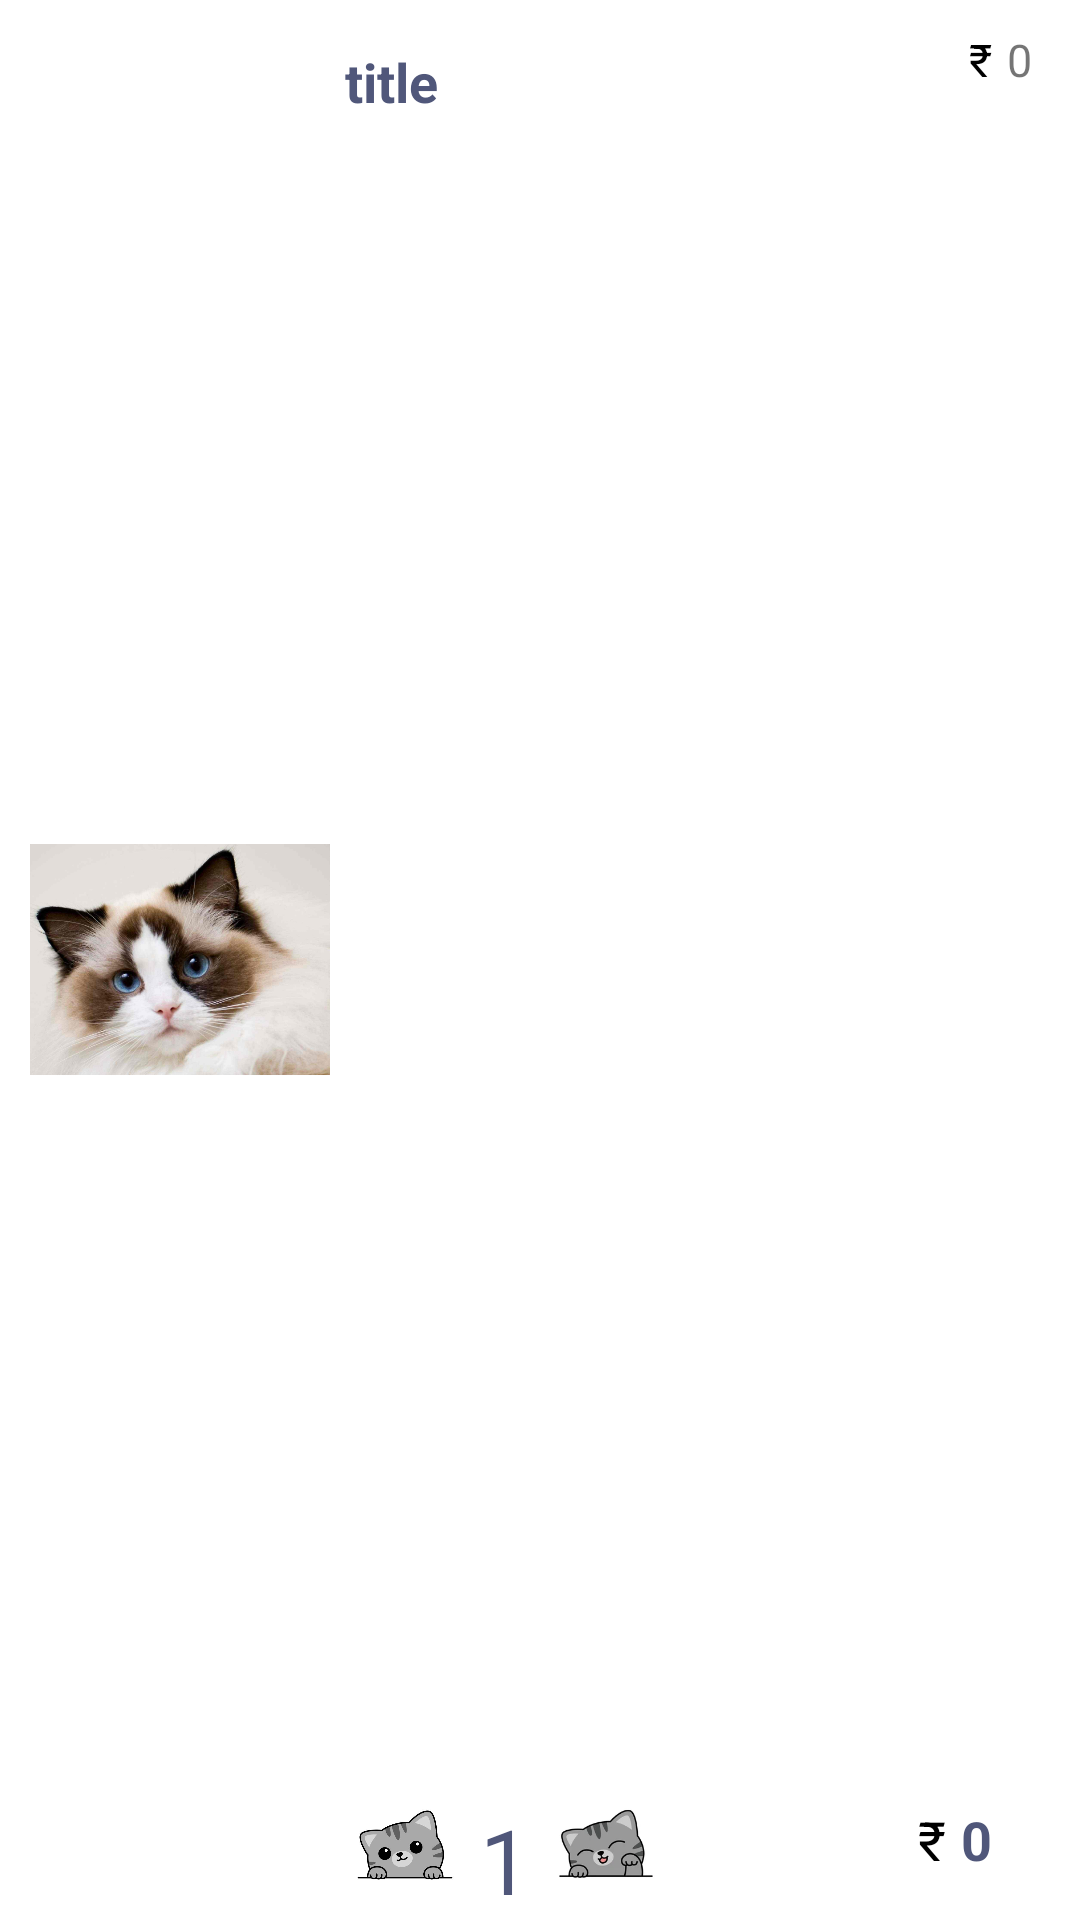

Where to tap for icons on this 1080w x 1920h app screen, as [x,y]:
ragdoll cat: [180,959]
